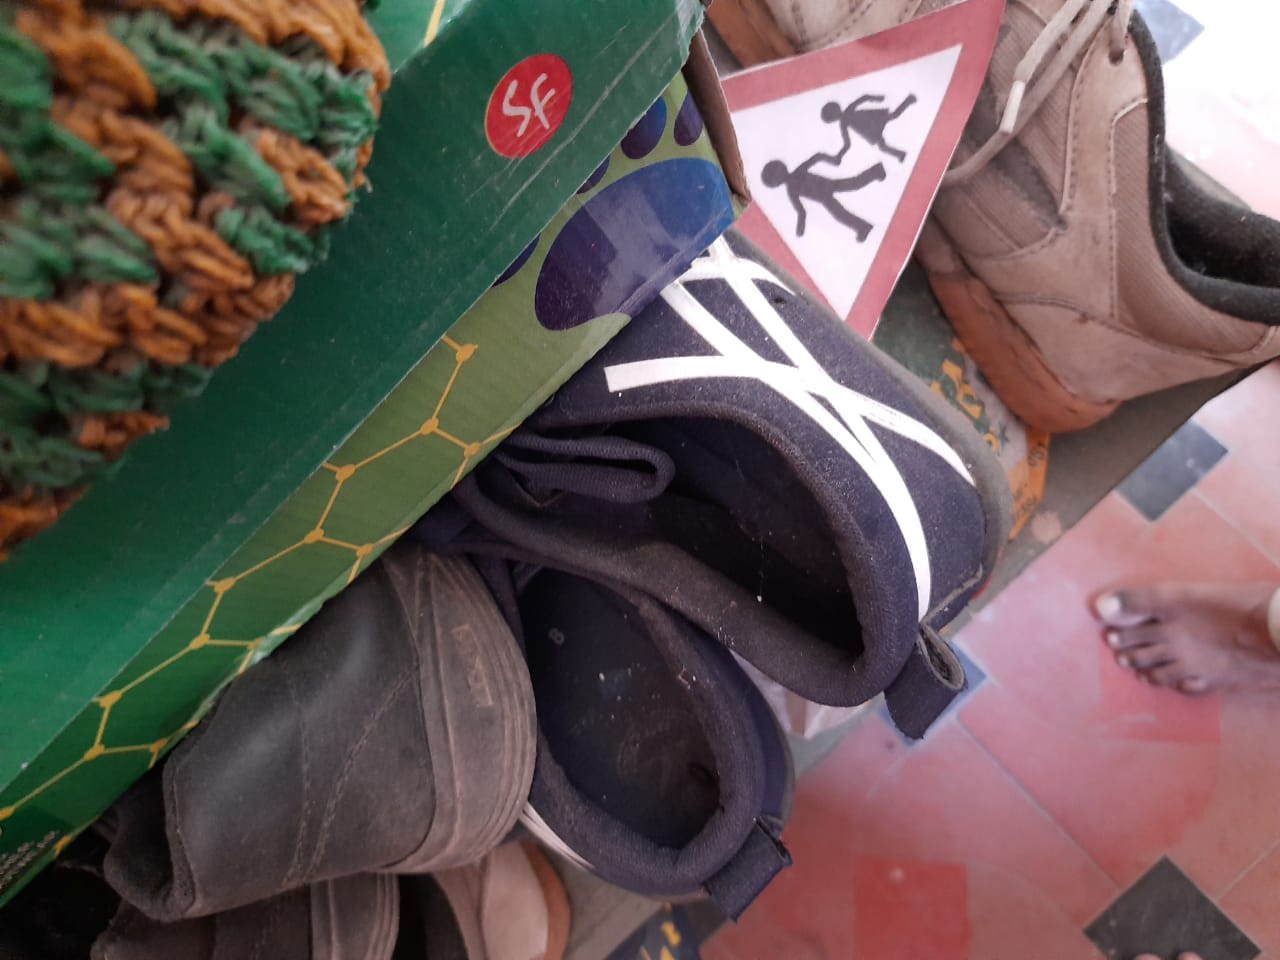SCHOOL ZONE: (674, 1, 1024, 356)
